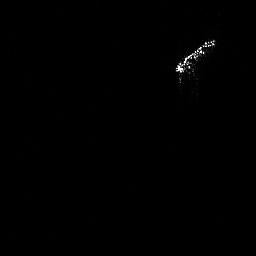ship: (174, 39, 217, 89)
